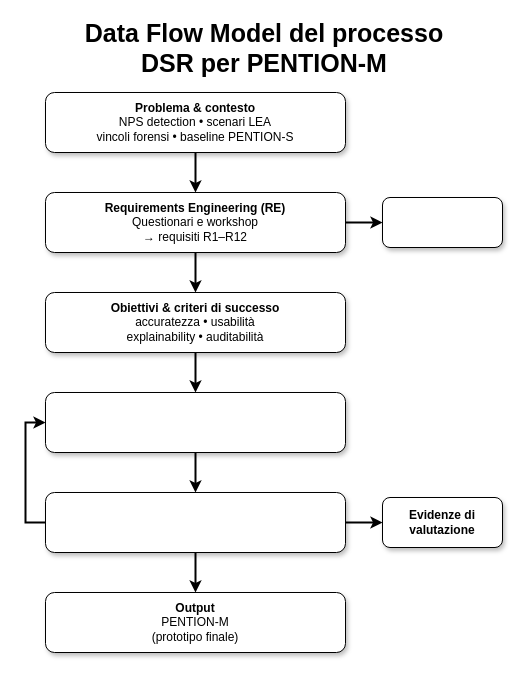
This 526x677 diagram has some shape labels left out. Each missing label, with the centre of its shape:
Artefatti di progetto: point (443, 223)
Design & Development V1 → V2 → V3 → V4 (iterazioni dell’artefatto): point (196, 424)
Dimostrazione & Valutazione (by construction): point (196, 524)
